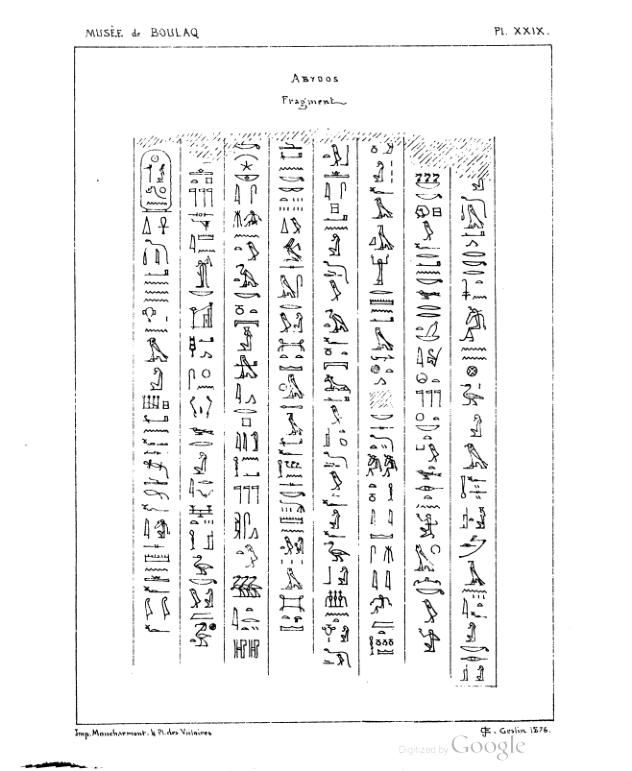circle: (138, 147, 174, 216)
